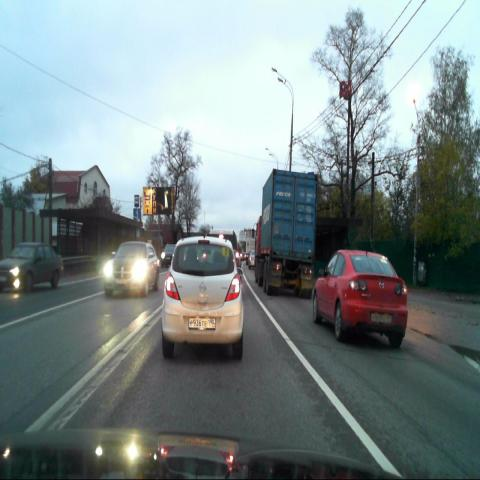6_6: (133, 208, 140, 221)
